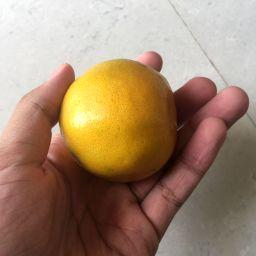Ripe: (60, 59, 175, 173)
